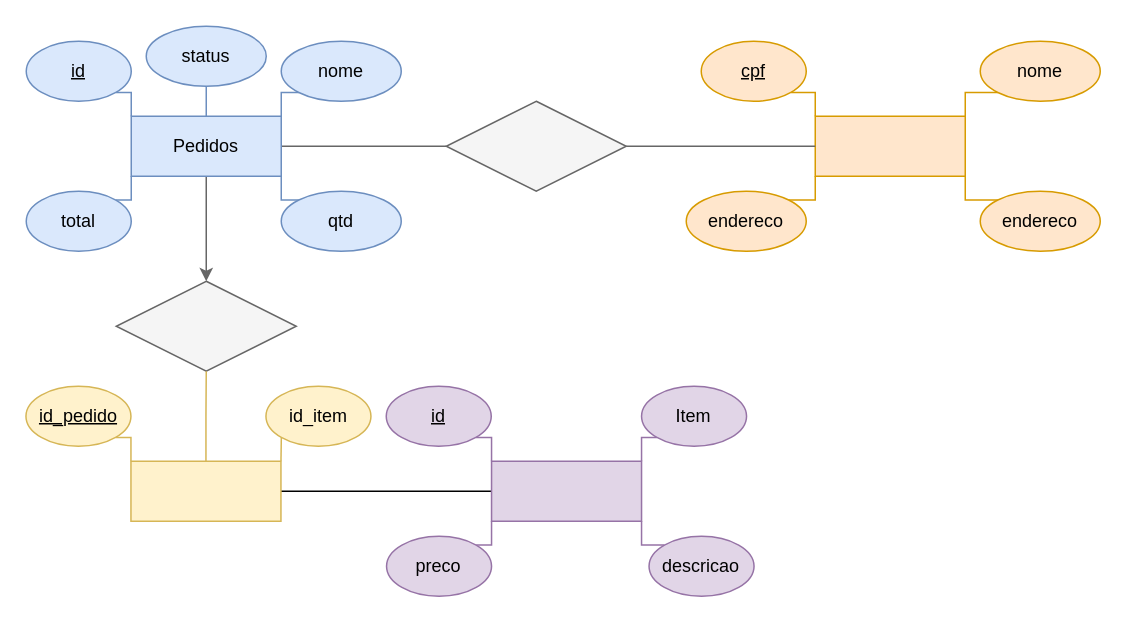
Some shapes in this 1128 by 623 pixel diagram are drawn without their labels. Each missing label, with the centre of its shape:
"Cardapio" belongs at (x=566, y=490).
"Clientes" belongs at (x=889, y=145).
"Fazem" belongs at (x=535, y=145).
"itens_pedido" belongs at (x=205, y=490).
"terão" belongs at (x=205, y=325).
